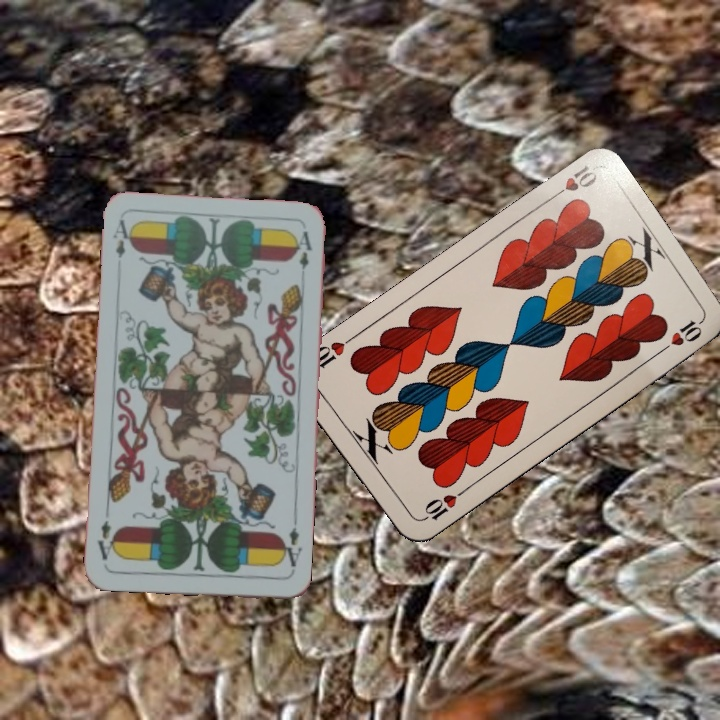EA: (276, 515, 304, 575), (109, 215, 136, 261)
H10: (545, 161, 600, 203), (415, 485, 468, 525)
